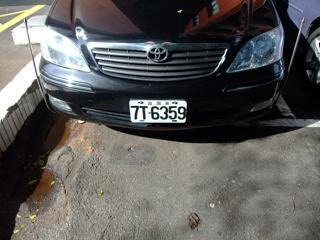plate: (128, 97, 188, 126)
